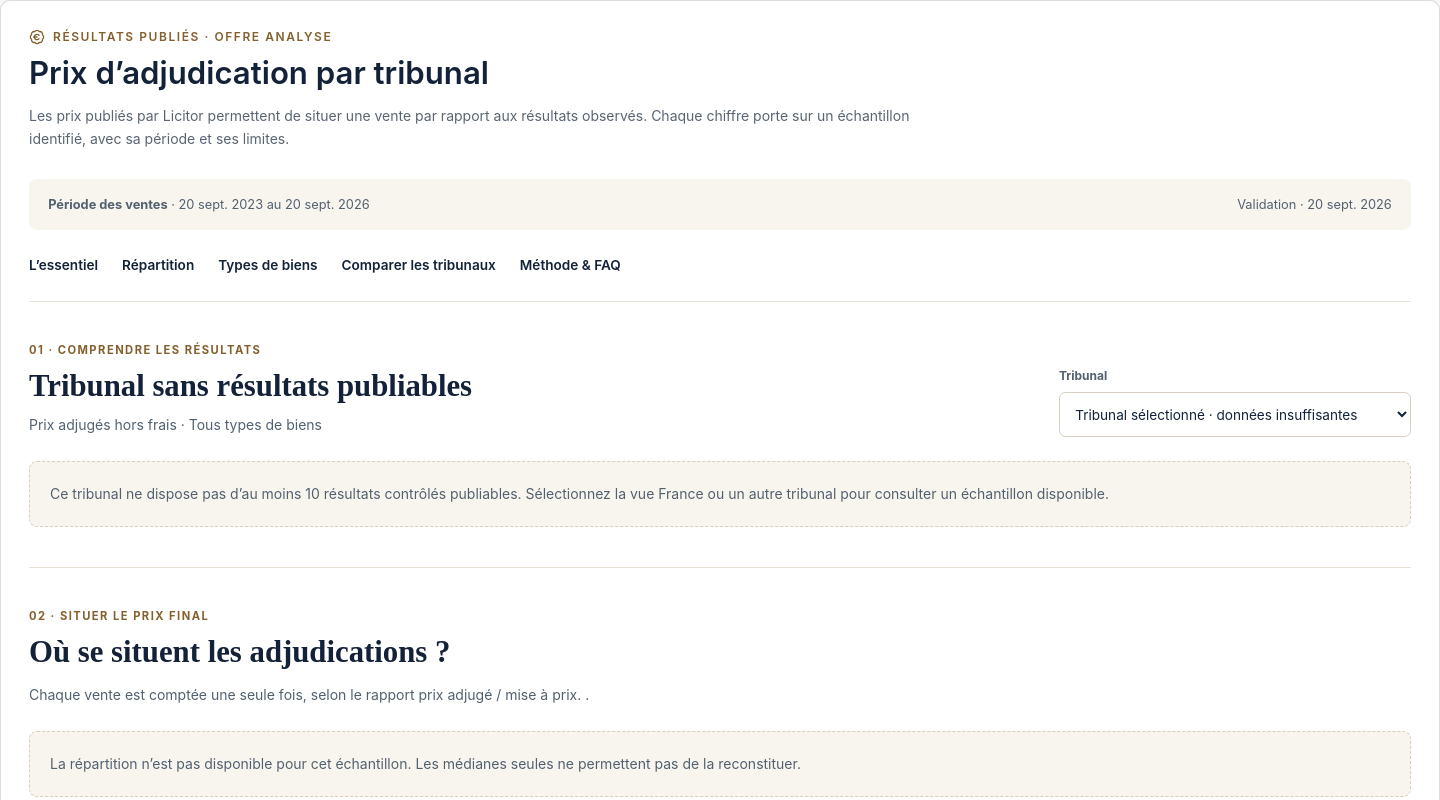
PremiumAdjudicationExplorer › ne remplace pas un tribunal sans données par le premier tribunal disponible
Check: the heading "Tribunal sans résultats publiables" is shown, box left=29, top=367, right=472, bottom=406
Select "France · ensemble des résultats" in the dropdown labelled "Tribunal" at {"x": 1235, "y": 415}, box left=1059, top=392, right=1411, bottom=437
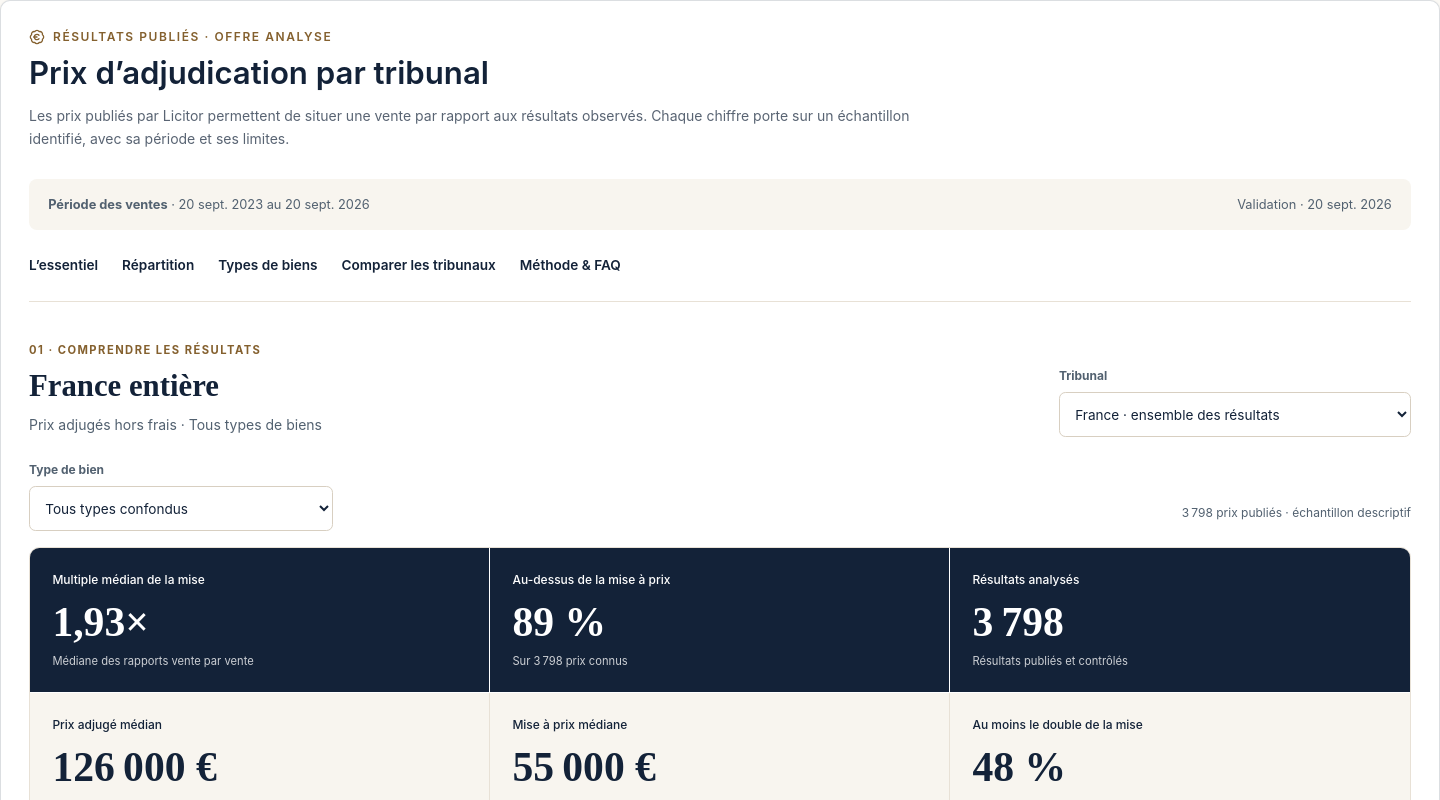
Check: the heading "France entière" is shown, box left=29, top=369, right=219, bottom=403
